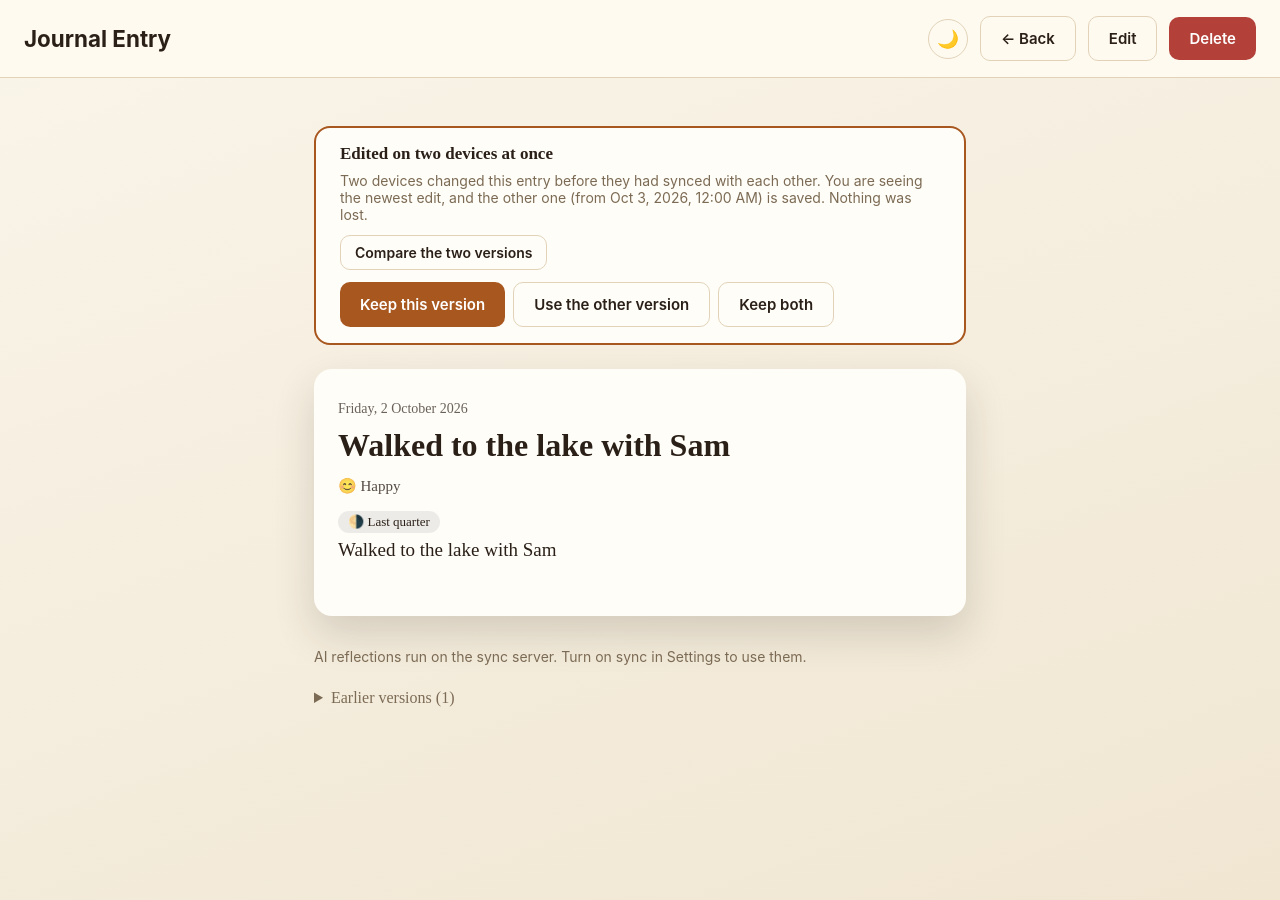
Scenario: Entries edited on two devices › keep this version: clears the notice and keeps the writing
The image size is (1280, 900).
Click the button "Keep this version" at point(423, 304), box [340,282,505,327]
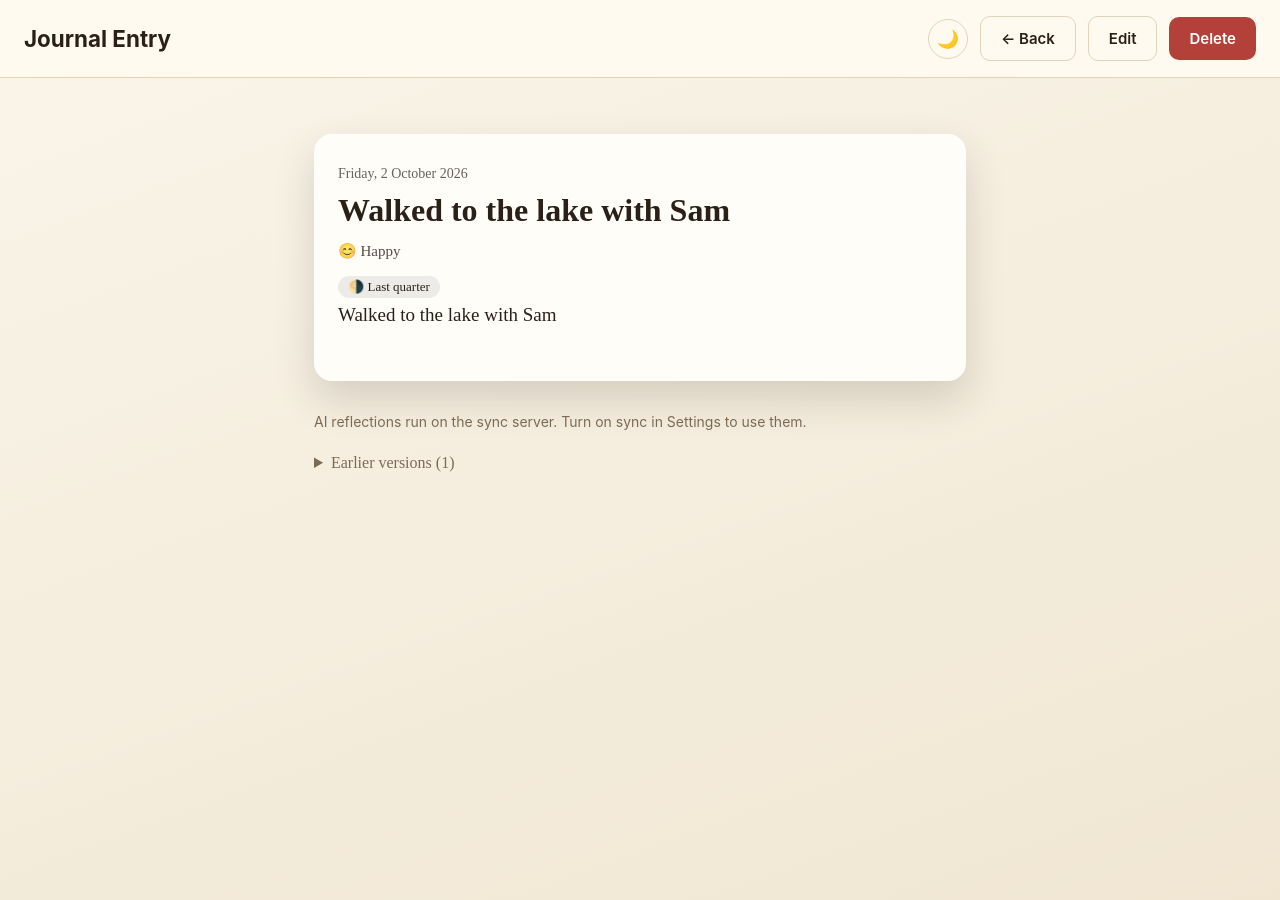
Expected: the heading "Walked to the lake with Sam" is shown, [338,192,730,228]
Expected: the heading "Edited on two devices at once" is gone
